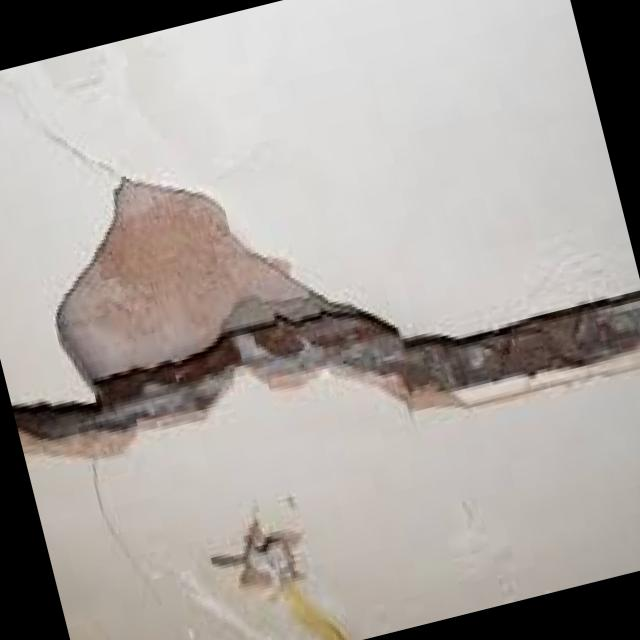crack: (0, 32, 640, 514)
